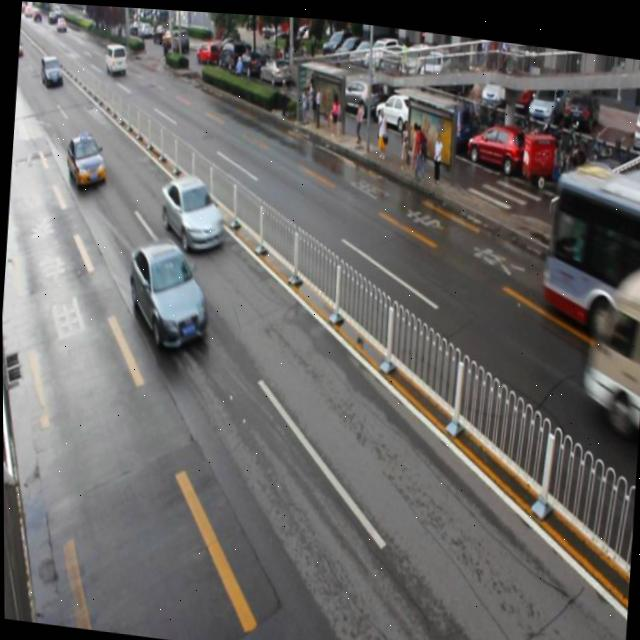car: (124, 230, 212, 350), (157, 168, 229, 250), (64, 128, 109, 192)
van: (540, 151, 640, 335)
